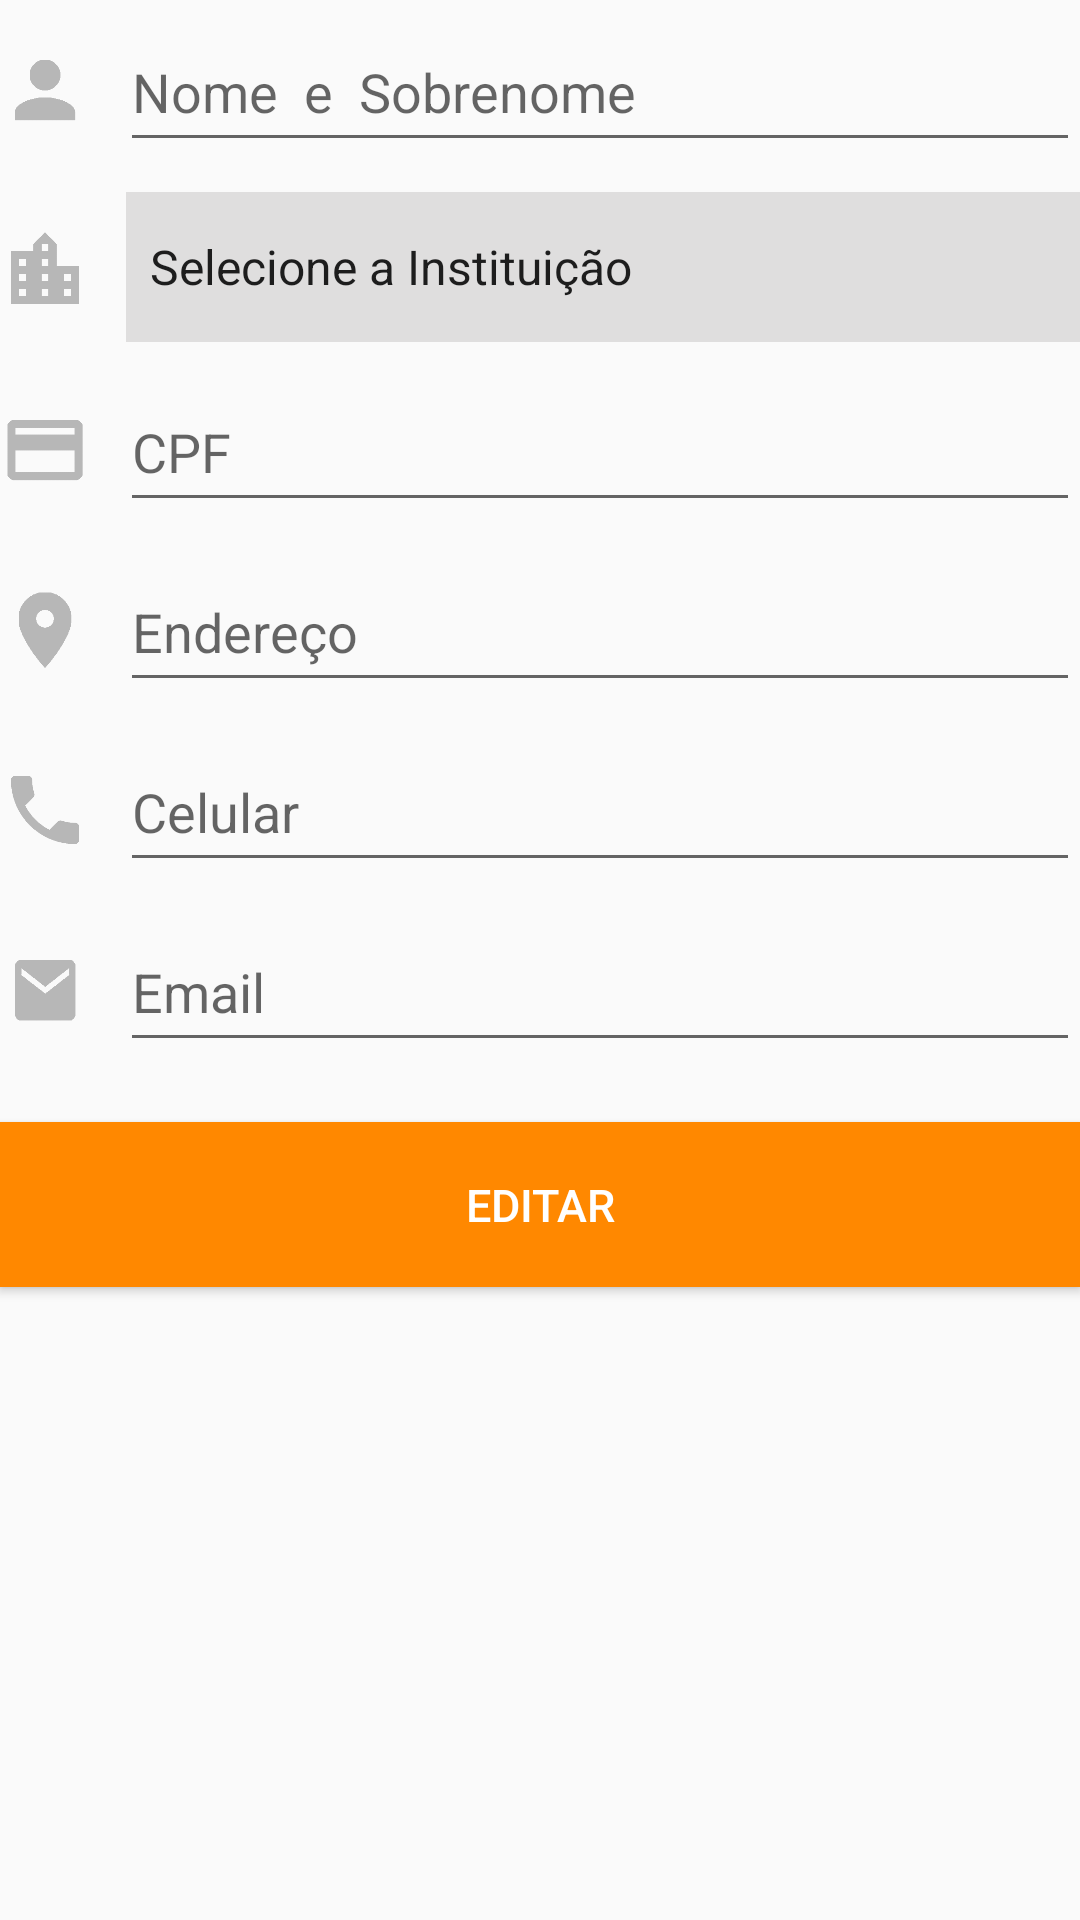

Where to tap for icons on this 1080px×1920px app screen, as (x=x, y=y):
aluno: (x=45, y=90)
endereco: (x=45, y=630)
instituicao de ensino: (x=45, y=268)
